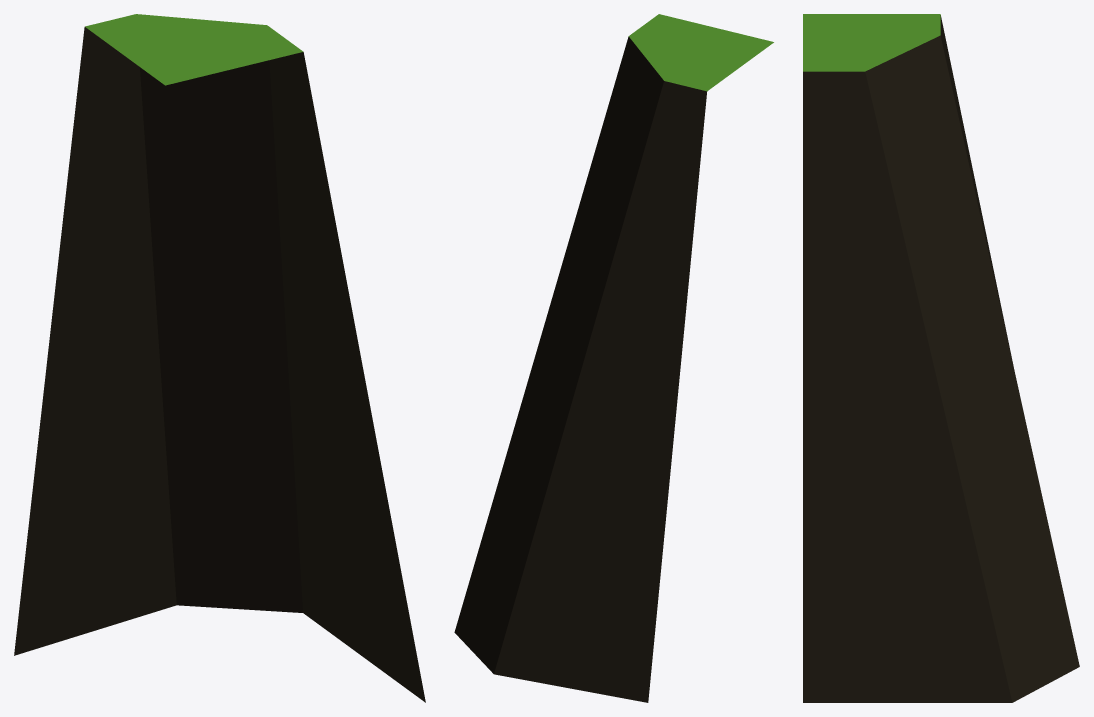
Rendered from CliffCorner.fbx.
3 renders of one model, left to right at view 1: azimuth 30°, elevation 25°; view 2: azimuth 150°, elevation 25°; view 3: azimuth 270°, elevation 25°, orthographic. The views are drawn at different scales.
Parts seen in each view (by area): view 1: CliffCorner; view 2: CliffCorner; view 3: CliffCorner.
Part boxes in pixels (x1=…): CliffCorner: x1=14, y1=14, x2=425, y2=702; CliffCorner: x1=454, y1=14, x2=773, y2=702; CliffCorner: x1=803, y1=14, x2=1079, y2=702.
Bounding box in the file's own units: 85.7 × 214 × 92.43.
